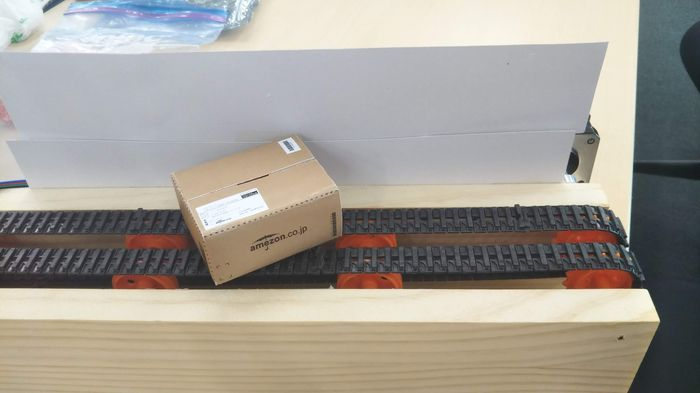box1: (167, 131, 345, 286)
